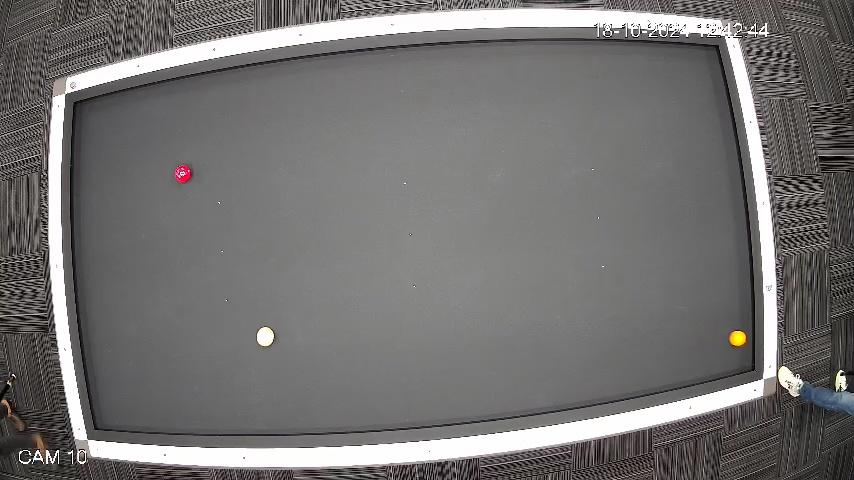Red: (173, 164, 192, 185)
White: (256, 326, 274, 348)
Yellow: (728, 330, 747, 348)
